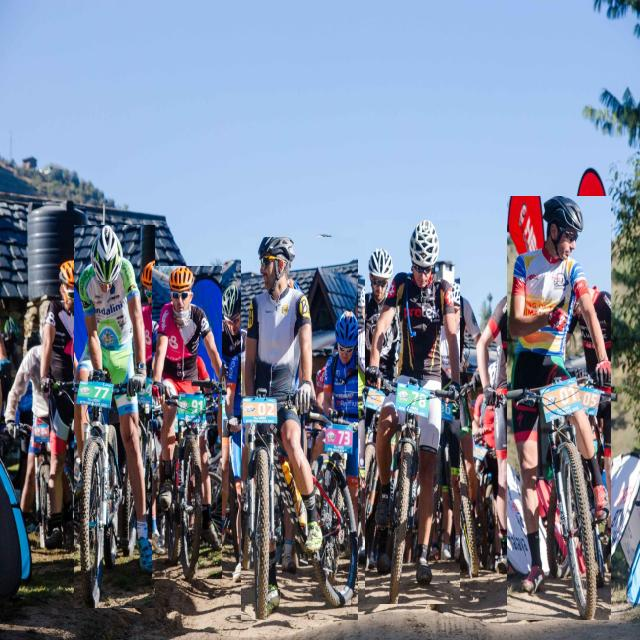bicycle: (241, 238, 358, 620), (507, 197, 610, 620), (365, 221, 460, 604), (74, 225, 155, 608), (152, 267, 221, 579)
